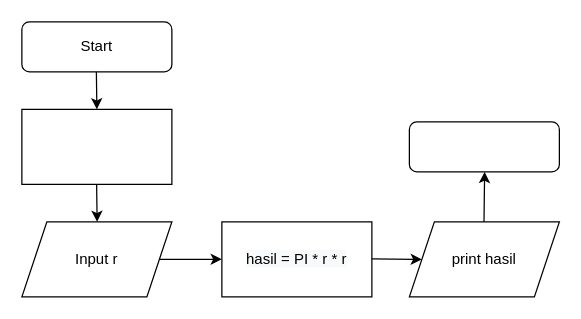
Some shapes in this 581 by 319 pixel diagram are drawn without their labels. Here are the shapes that lost their labels. From the top down, the centre of each, then its label:
pixel 96 146: const float PI = 3.14 int r float hasil
pixel 483 146: End
